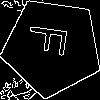F: (27, 22, 77, 59)
